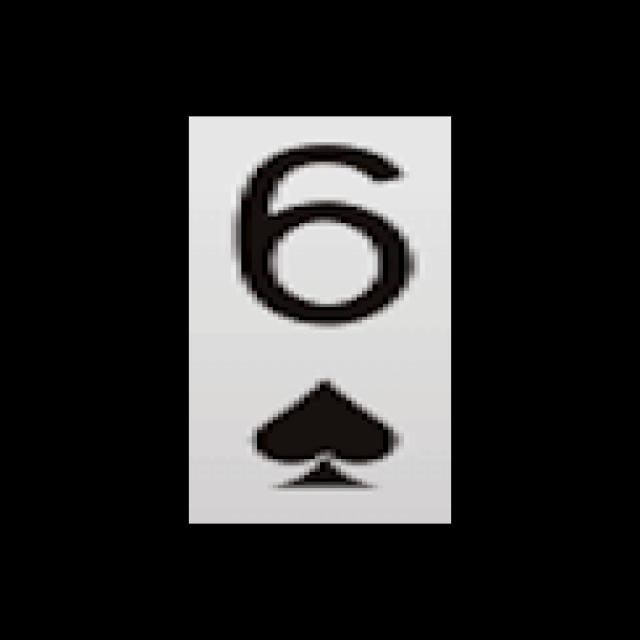6S: (203, 130, 438, 502)
